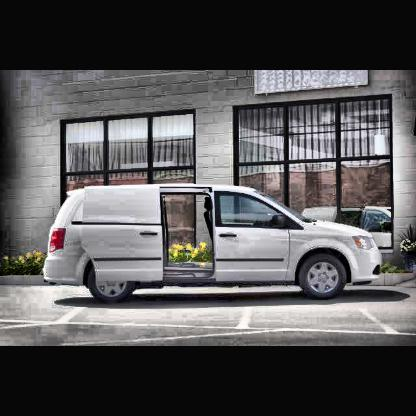Ram C-V Cargo Van Minivan 2012: (44, 184, 383, 304)
